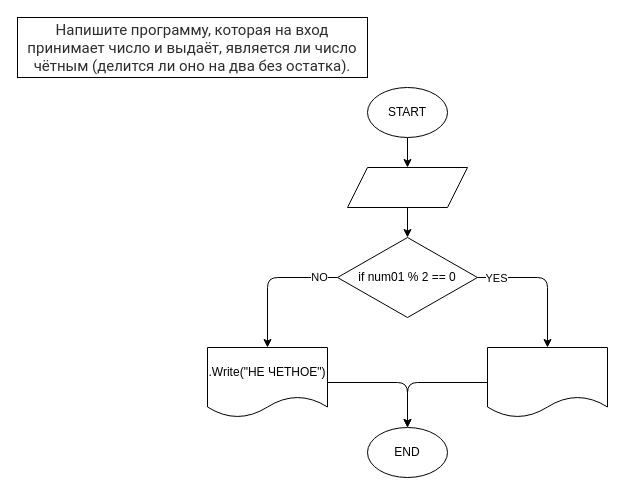
Some shapes in this 625 by 495 pixel diagram are drawn without their labels. Each missing label, with the centre of its shape:
.Write("ЧЕТНОЕ"): point (547, 382)
num01: point (407, 187)
